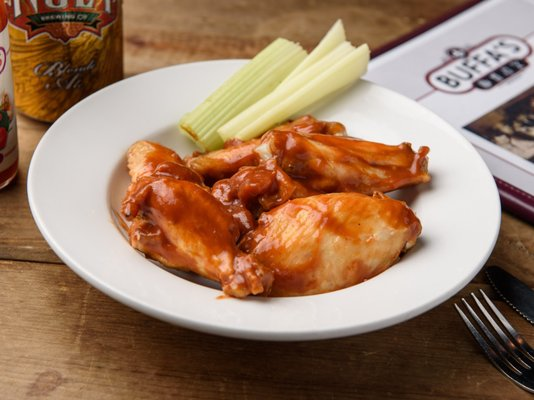sandwich: (483, 265, 534, 327)
